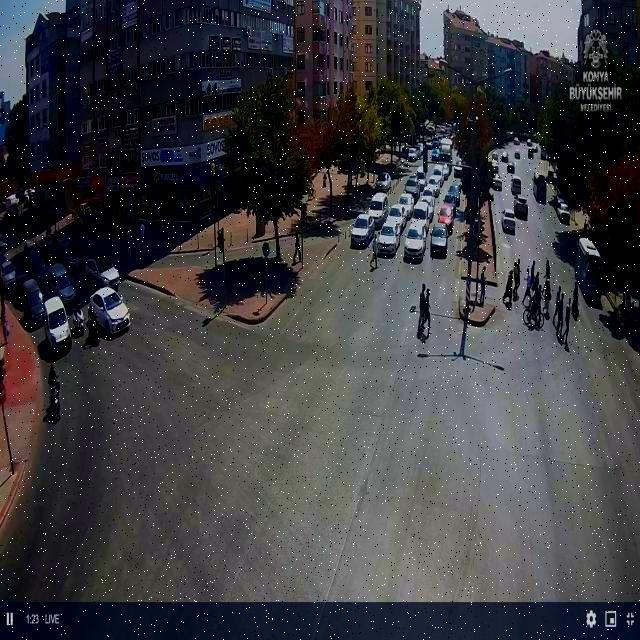Car: (87, 286, 134, 337), (42, 295, 72, 353), (48, 262, 79, 307), (21, 280, 48, 327), (84, 258, 121, 289), (376, 222, 404, 256), (350, 214, 376, 246), (403, 226, 427, 260), (366, 192, 389, 226), (429, 224, 449, 257), (384, 208, 407, 235), (412, 200, 432, 228), (437, 203, 456, 232), (1, 258, 18, 290), (397, 193, 415, 215), (446, 183, 462, 206), (405, 176, 421, 198), (502, 209, 516, 234), (374, 172, 392, 191), (430, 166, 446, 187), (556, 201, 570, 224), (514, 198, 528, 220), (427, 176, 442, 196), (440, 162, 452, 179), (408, 147, 420, 162), (511, 178, 521, 195), (492, 178, 502, 191), (501, 152, 508, 162)
